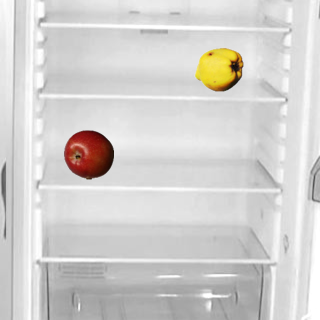Apple Braeburn: (63, 129, 113, 179)
Quince: (193, 44, 243, 94)
